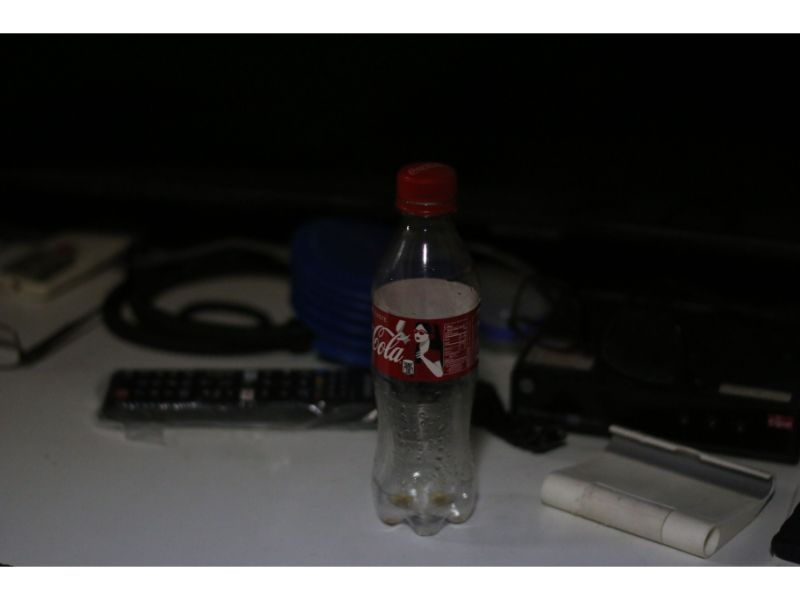PET #1: (371, 155, 481, 536)
